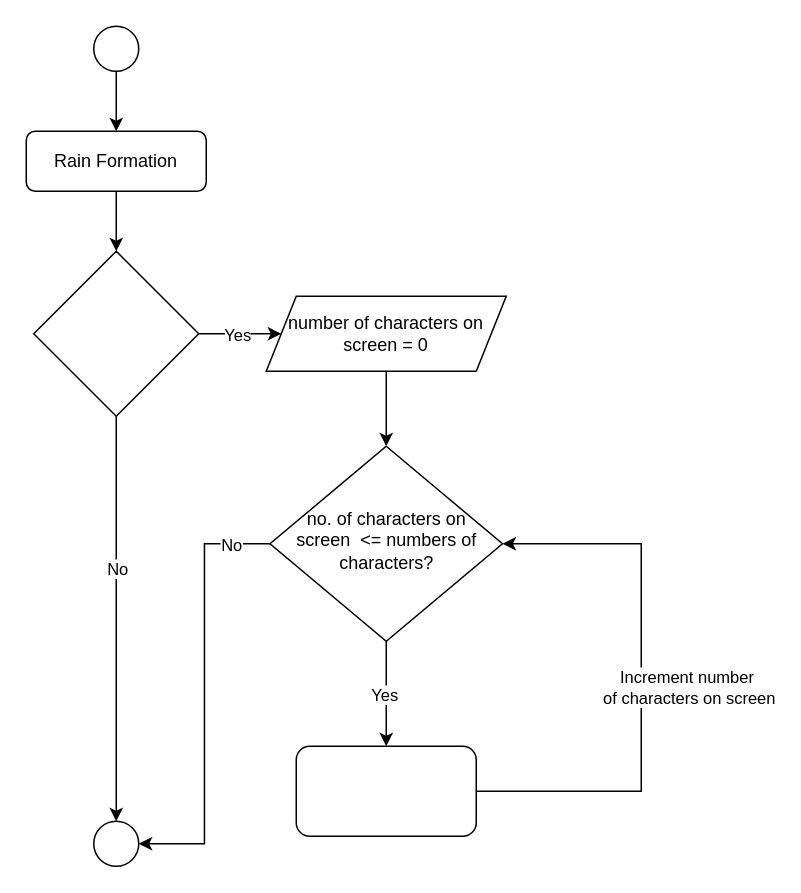
This 801x893 diagram has some shape labels left out. The centre of each missing label's shape, as x and y in pixels:
"Droplet at the top of the page?" belongs at pixel 115 333.
"Print the current characters bottom up" belongs at pixel 385 790.
